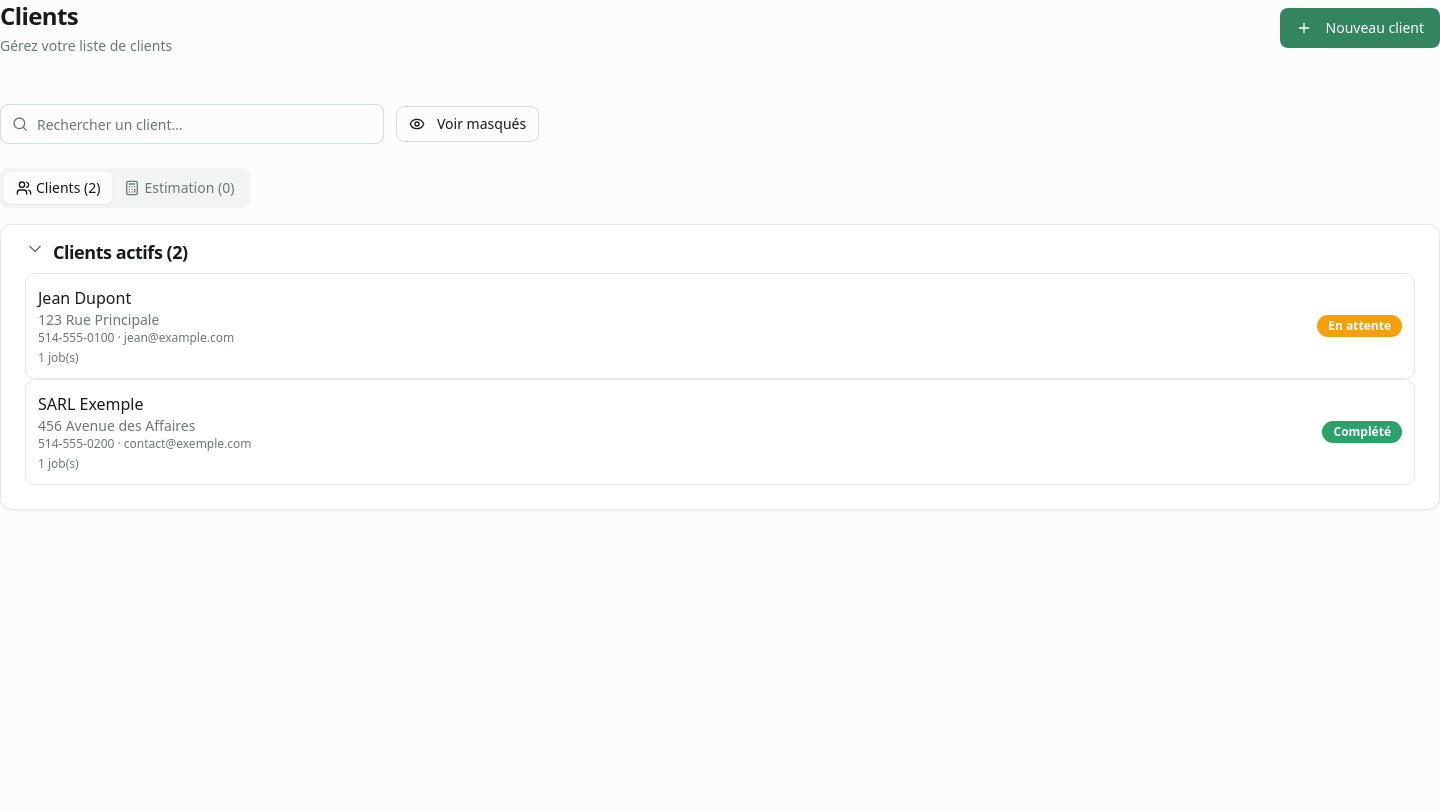
Test: Clients — Billing Info UI › Add client dialog › shows billing info section when add dialog is opened
The width and height of the screenshot is (1440, 810).
What coordinates should you click on to do the following:
click the button "Nouveau client"
I would click on:
 (1360, 28)
Its box is [1280,8,1439,48].
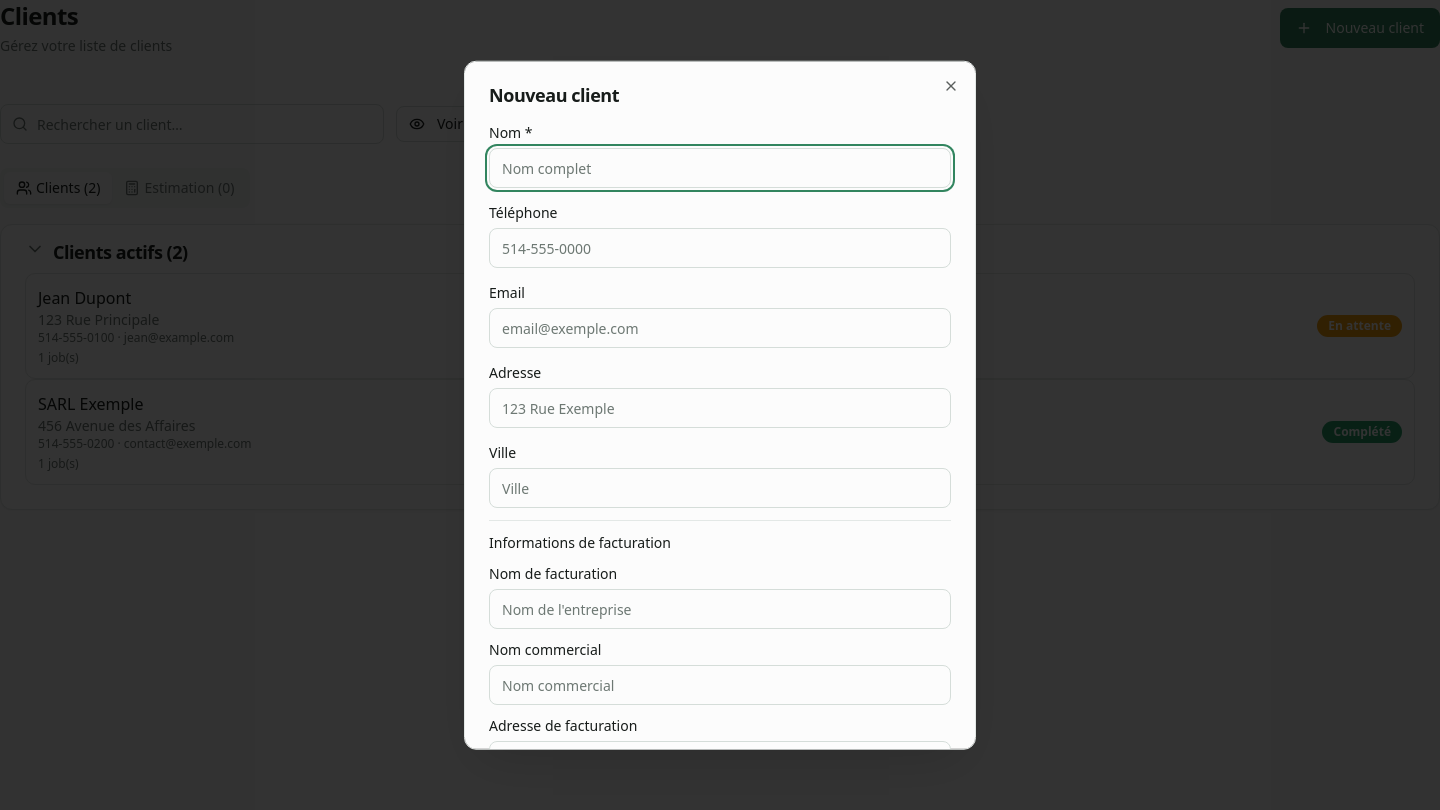
Now the text "Informations de facturation" is shown, box [489,533,671,552]
